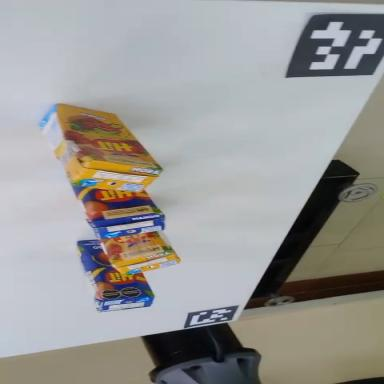HIT-MANGO: (76, 230, 155, 317), (70, 186, 166, 243)
HIT-MORA: (26, 79, 165, 222), (100, 229, 181, 278)
cara_F: (49, 104, 169, 174), (75, 222, 153, 316), (72, 185, 164, 226), (104, 225, 167, 265)
